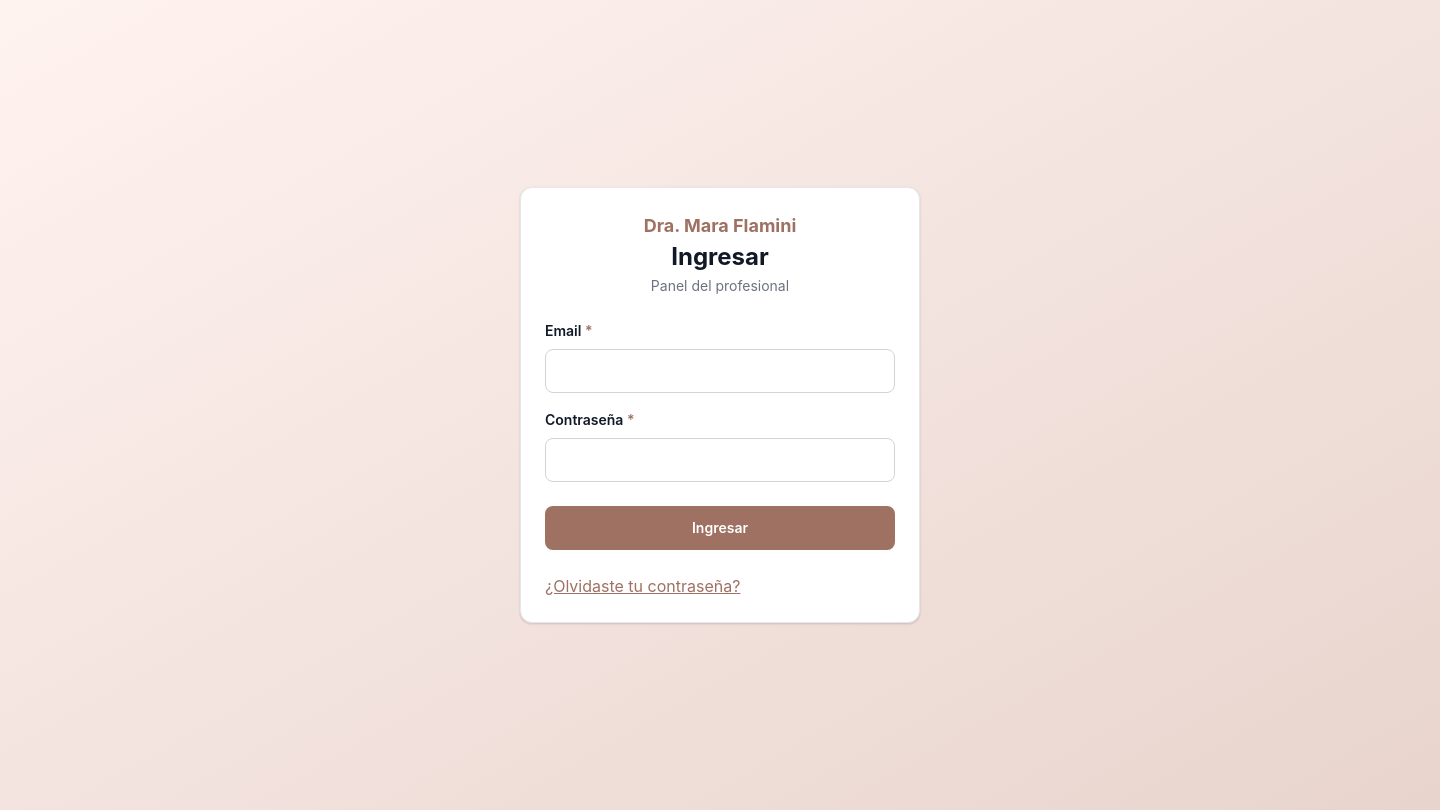
Test: SignInPage › shows a generic error when credentials are rejected
Type "pro@example.com" into the field labelled "Email *" at (720, 371), box [545, 349, 895, 393]
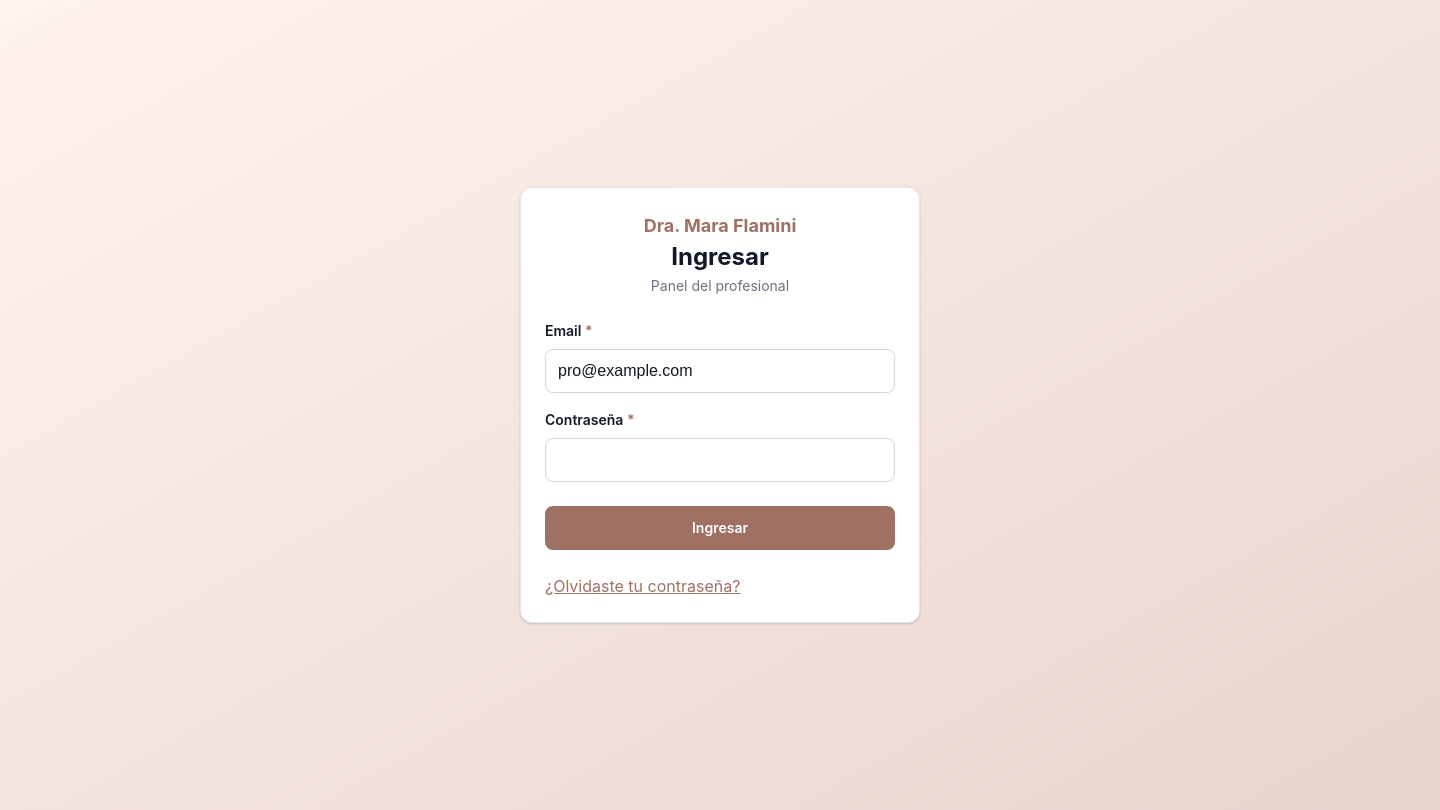
Type "wrong" into the password field labelled "Contraseña *" at (720, 460), box [545, 438, 895, 482]
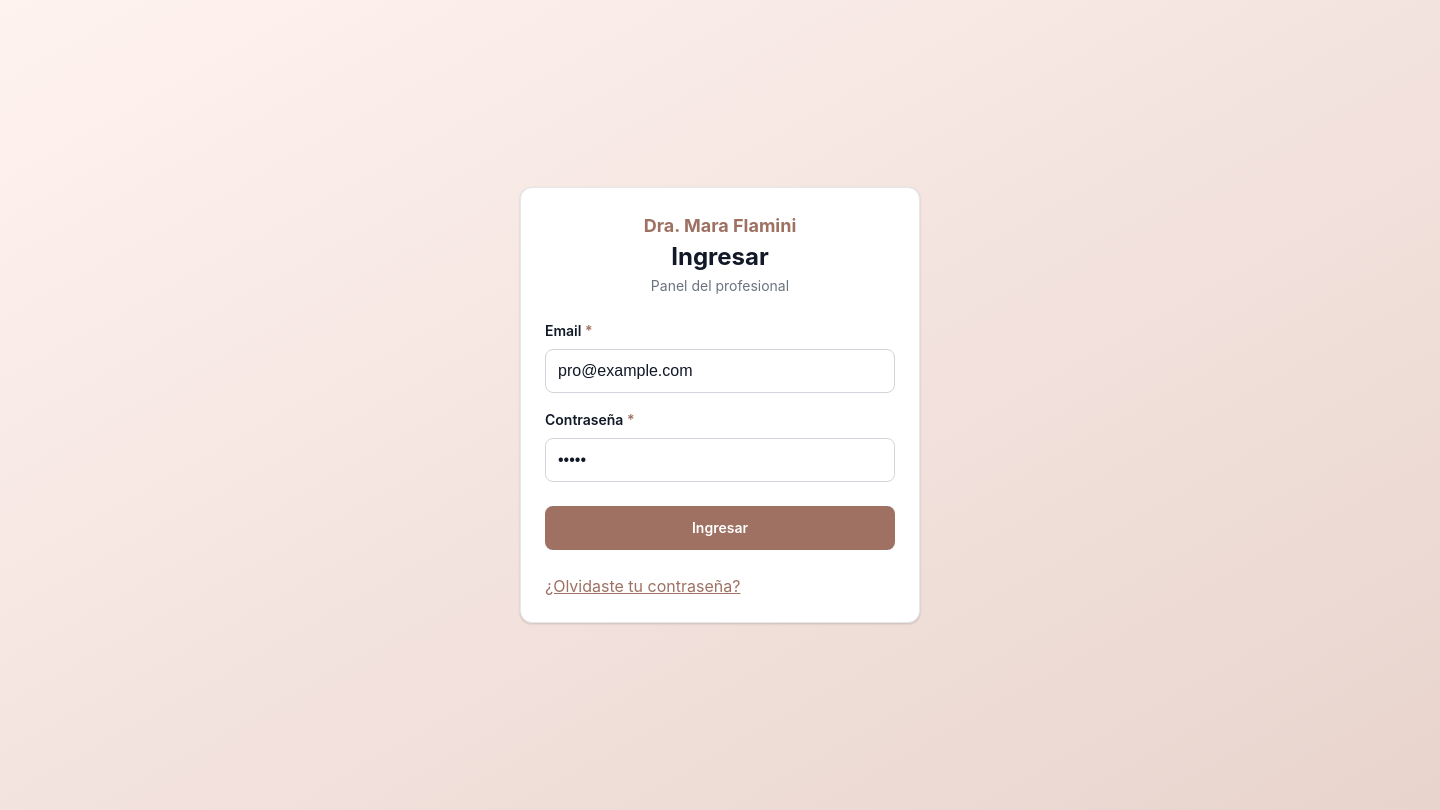
Click the button "Ingresar" at (720, 528), box [545, 506, 895, 550]
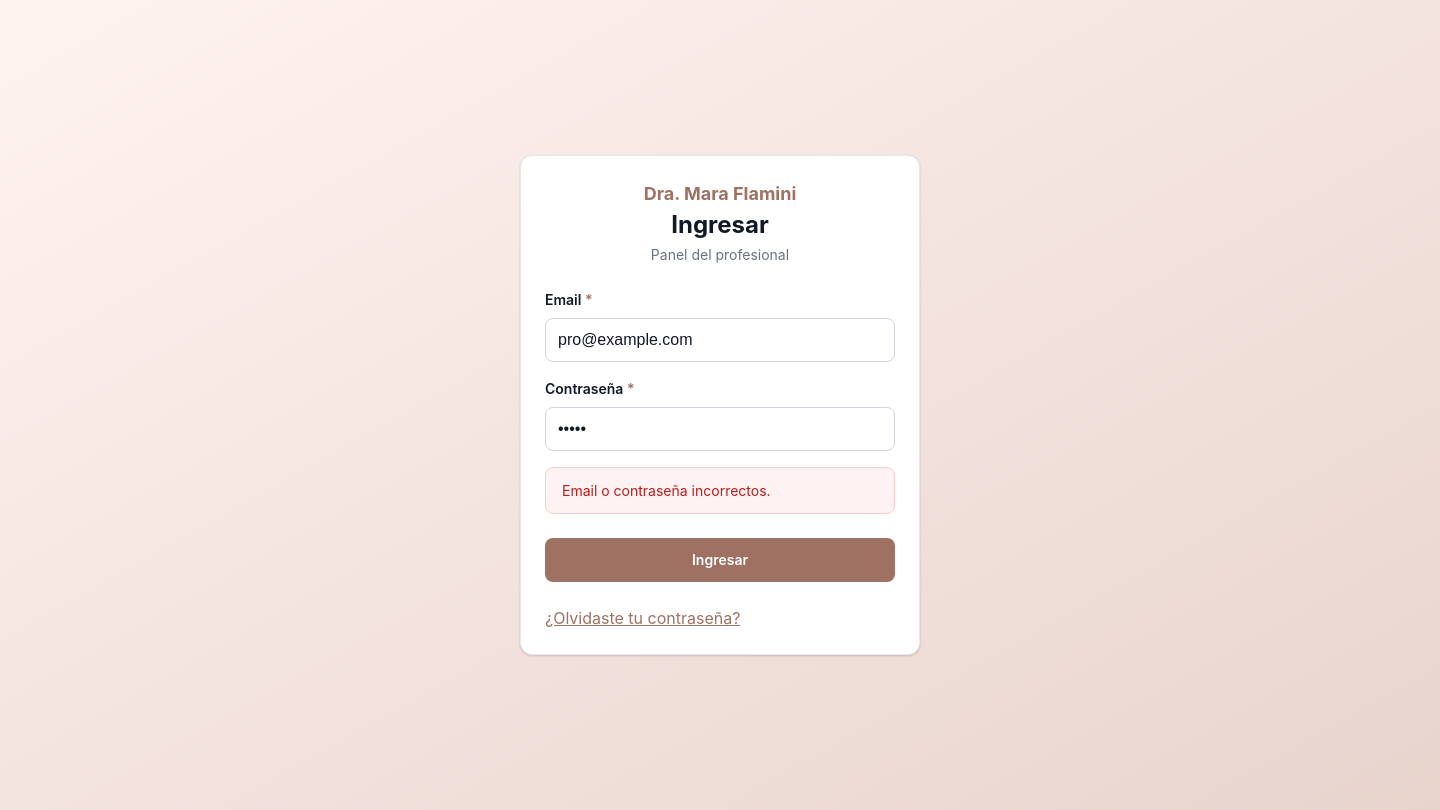
Expected: the text "Email o contraseña incorrectos." is shown, [545, 467, 895, 514]
